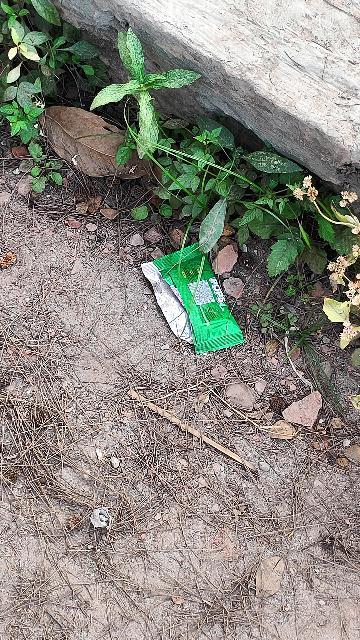packet: (138, 246, 250, 352)
